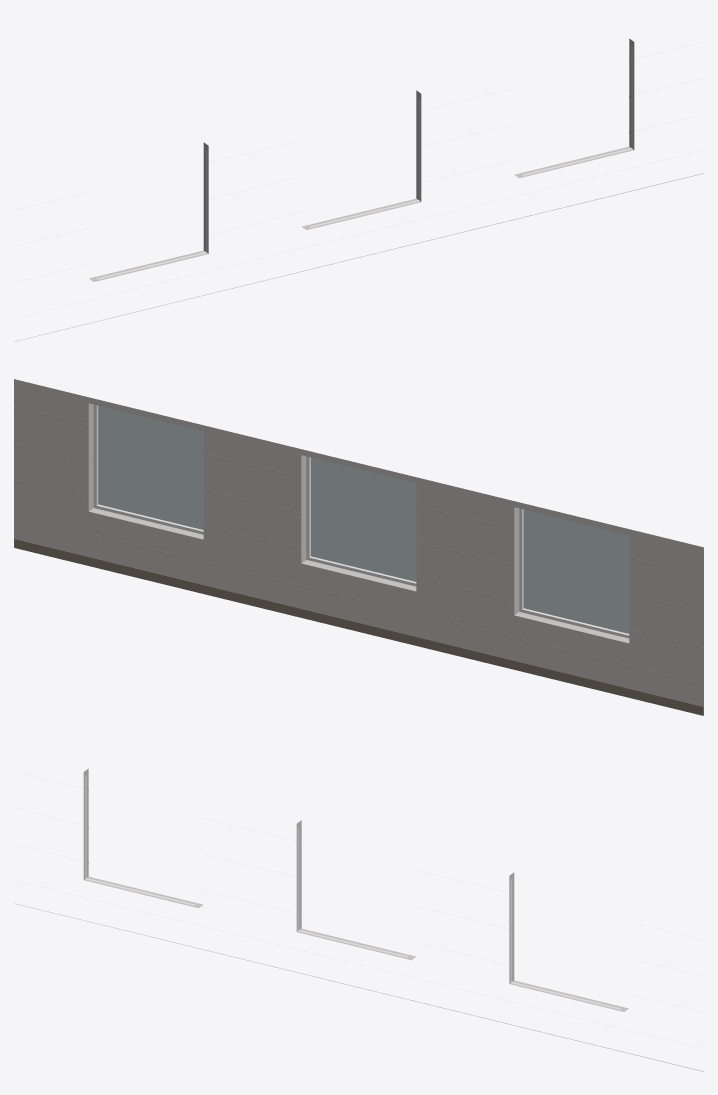
File: CR_LeftWall.glb
The picture shows the model from 3 angles, top to bottom: view 1: azimuth 30°, elevation 25°; view 2: azimuth 150°, elevation 25°; view 3: azimuth 330°, elevation 25°; orthographic projection.
Parts seen in each view (by area): view 1: Left_Wall; view 2: Left_Wall; view 3: Left_Wall.
Part boxes in pixels (x1,y1,x2,y2): Left_Wall: (14, 38, 703, 341); Left_Wall: (14, 379, 703, 715); Left_Wall: (14, 768, 703, 1071).
Size of the model in its own units: 12 by 2.8 by 0.2101.
